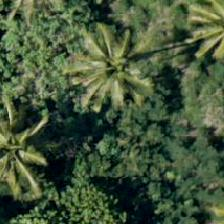Kelapa_Sawit: (64, 33, 154, 123), (0, 105, 62, 195)
